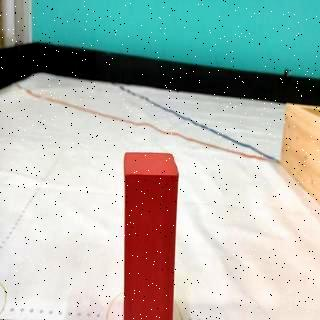redbox: (122, 151, 178, 320)
